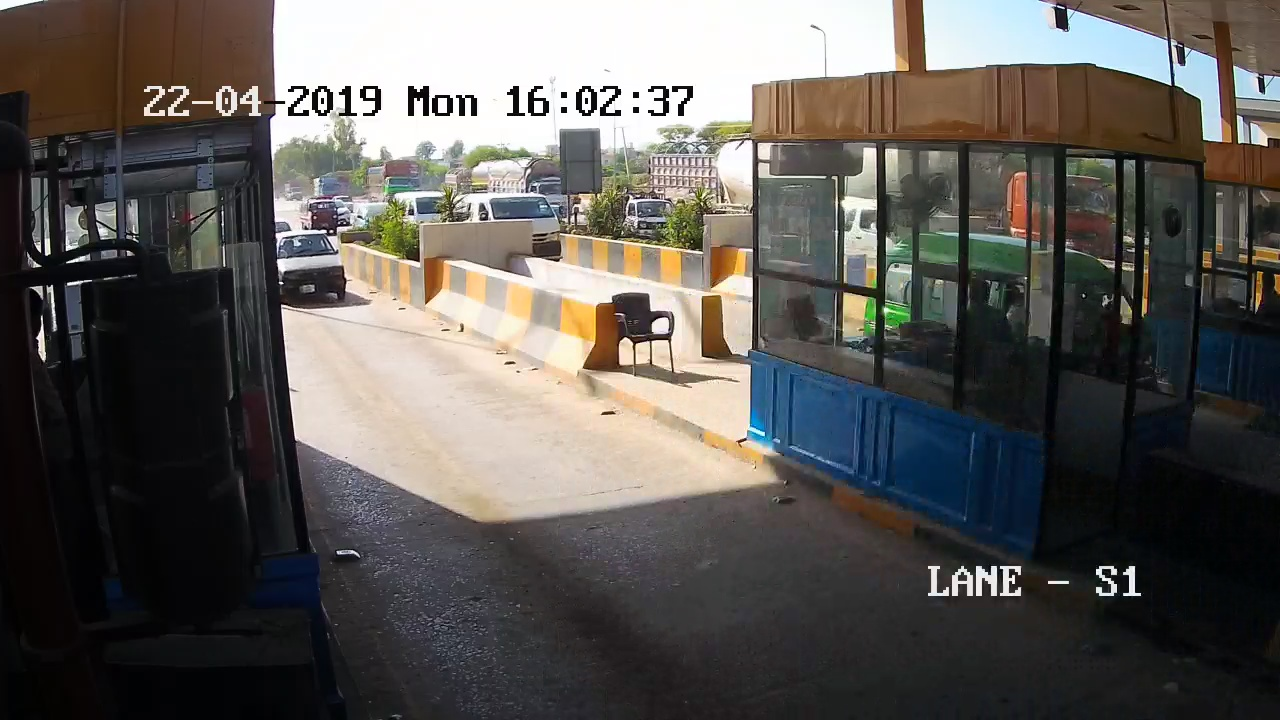car: (271, 222, 356, 315)
